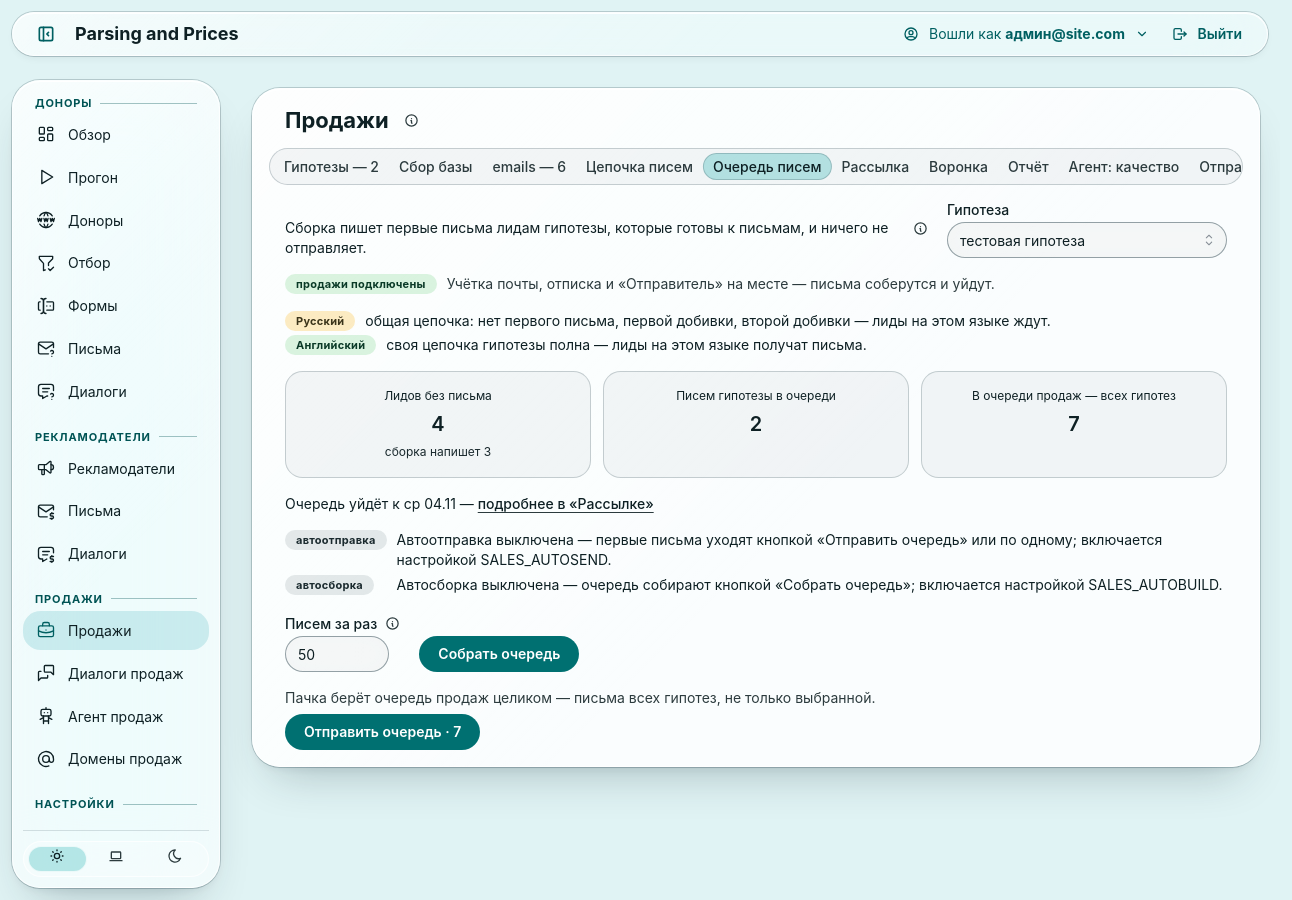
очередь писем продаж › вступление — одной строкой, как уходят письма — в «i» (аудит 09.10.2026)
Expected: the text "Лидов без письма" is shown, [384, 388, 492, 405]
Expected: the text "Сборка пишет первые письма" is shown, [285, 219, 888, 256]
Hover over the button named "Как уходят письма продаж": {"x": 920, "y": 229} [909, 218, 931, 240]
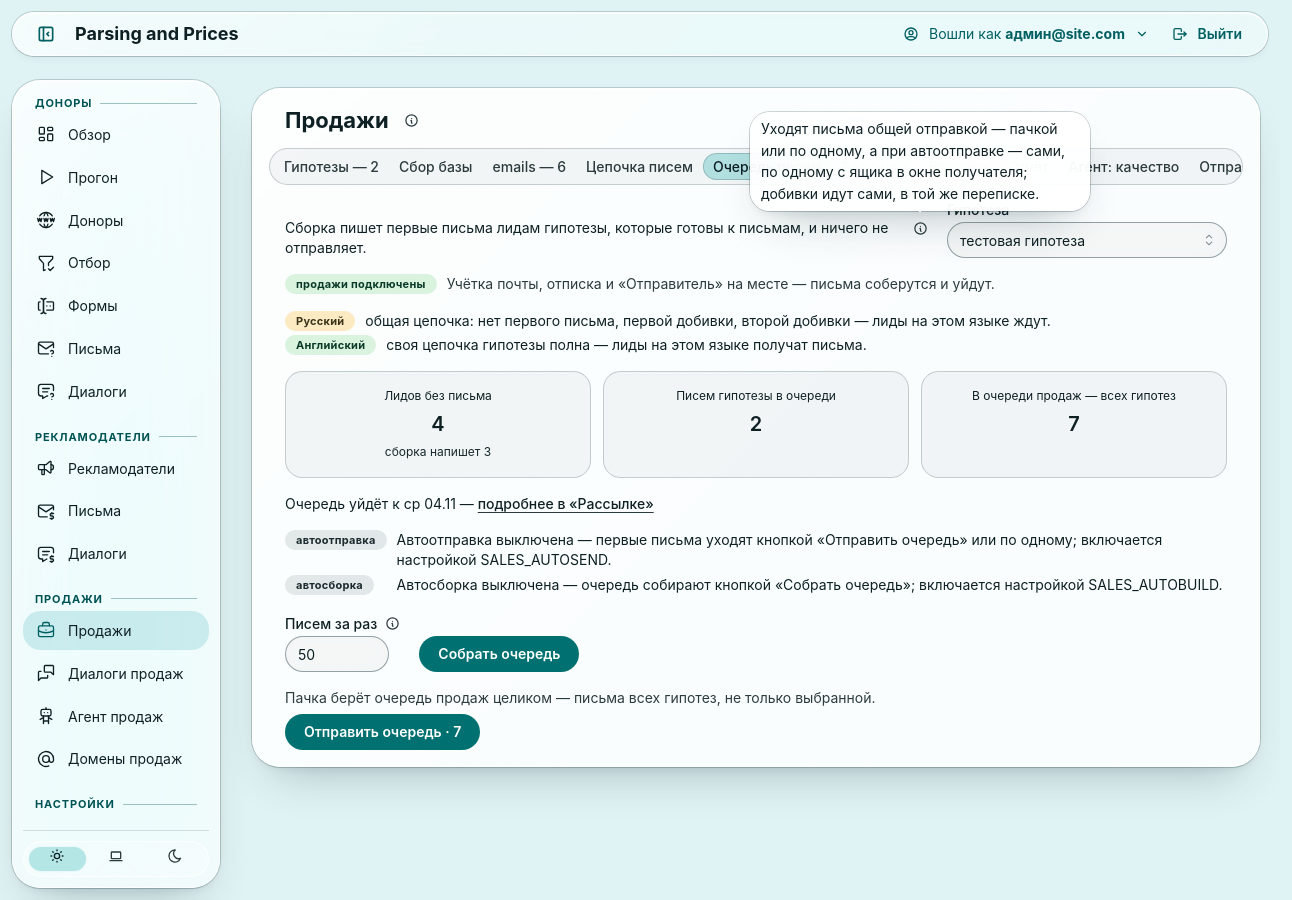
Expected: the tooltip "Уходят письма общей отправкой" is shown, [761, 120, 1065, 202]
